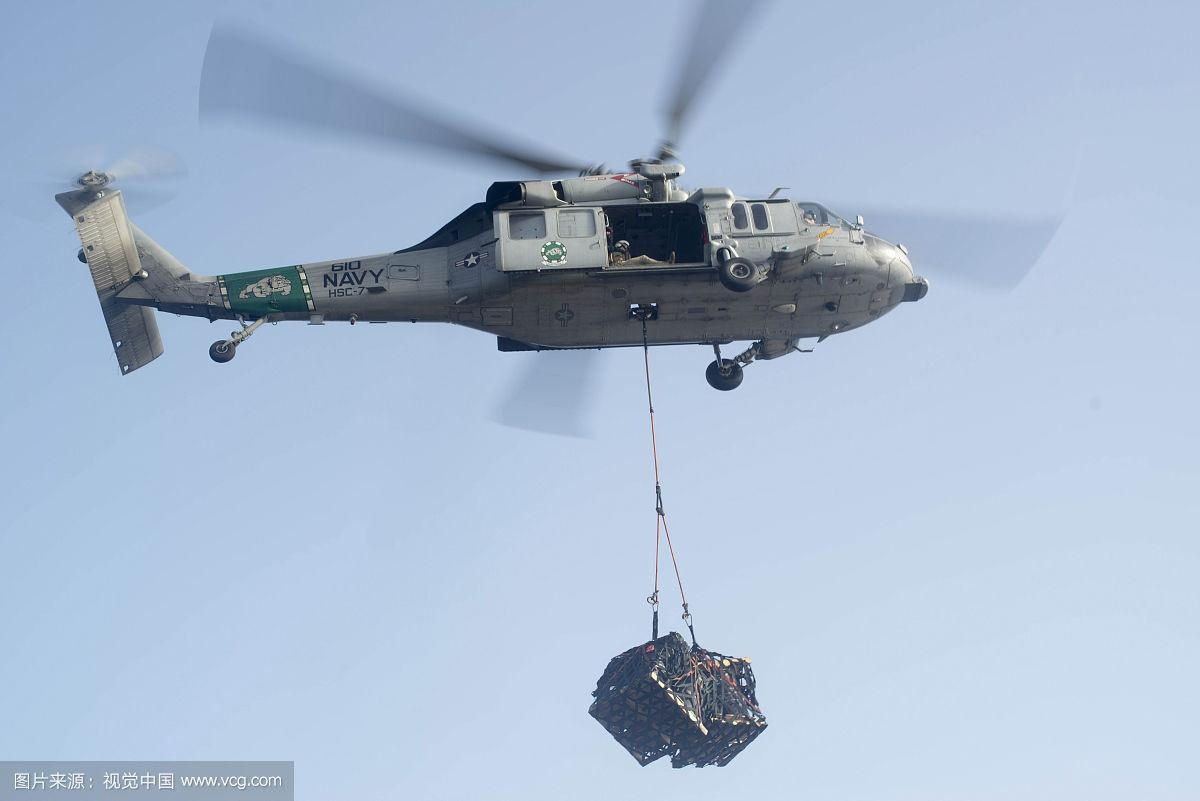airplane: (34, 143, 947, 387)
